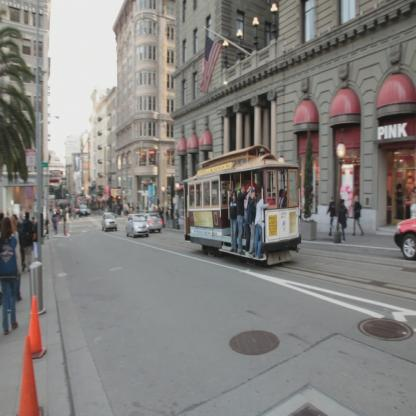Car: (396, 215, 416, 258), (127, 213, 148, 239), (148, 212, 165, 237), (102, 214, 117, 233), (80, 203, 89, 217)
